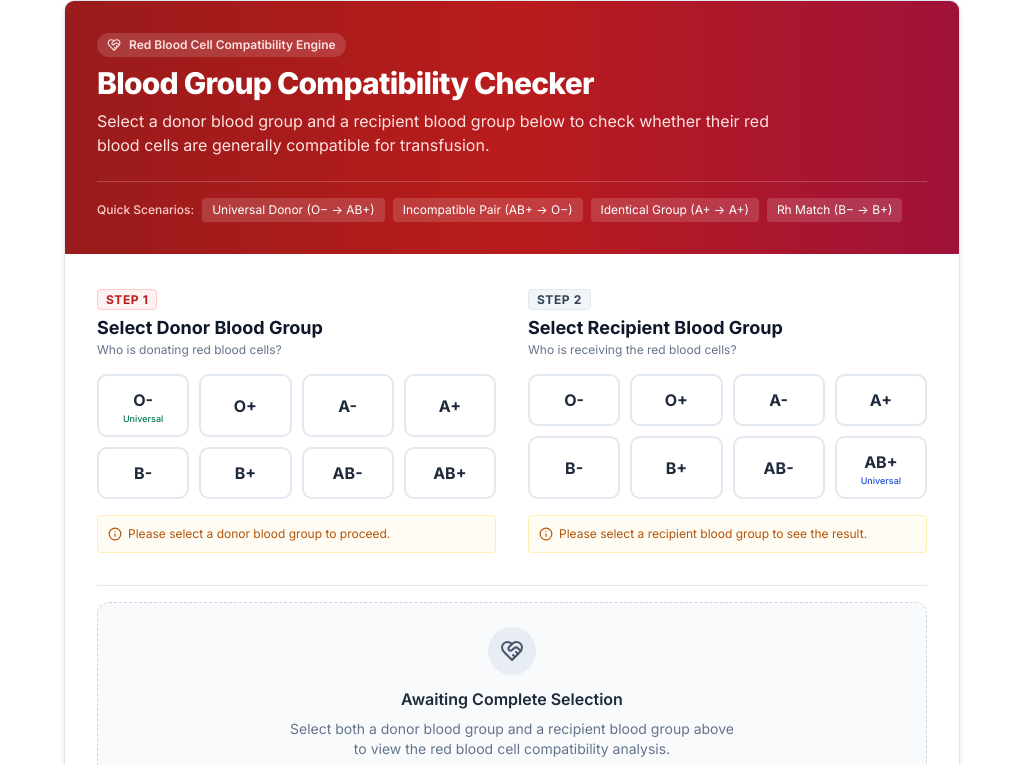
Test: CompatibilityChecker Component › calculates compatible pair correctly (O- donor to AB+ recipient)
Step 1. Click the radio button labelled "O- Universal" → [143, 406], box x1=97 y1=374 x2=189 y2=437
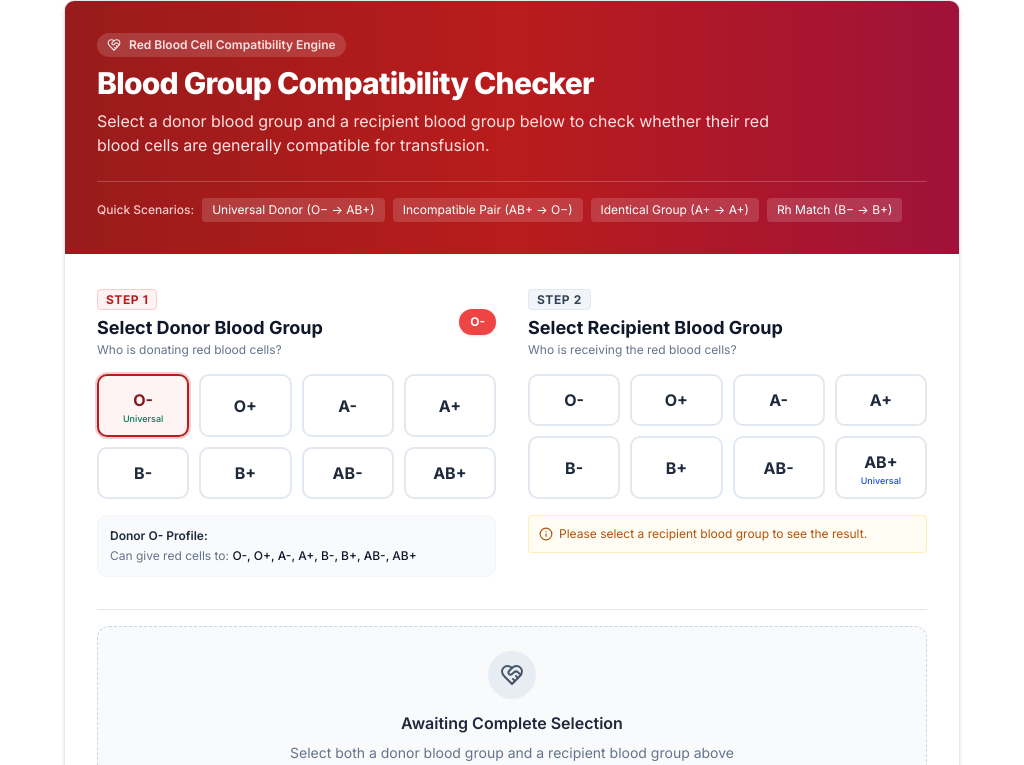
Step 2. Click the radio button labelled "AB+ Universal" → [881, 468], box x1=835 y1=436 x2=927 y2=499
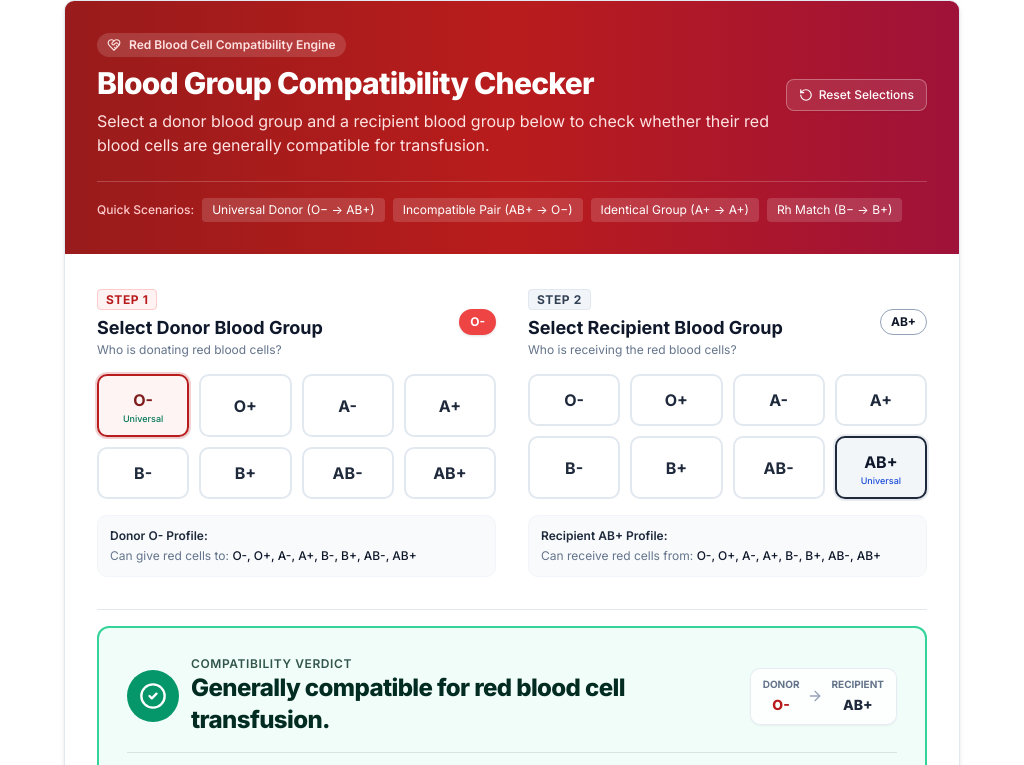
expect the heading "Generally compatible for red blood cell transfusion." is shown: met, box x1=191 y1=673 x2=625 y2=734
